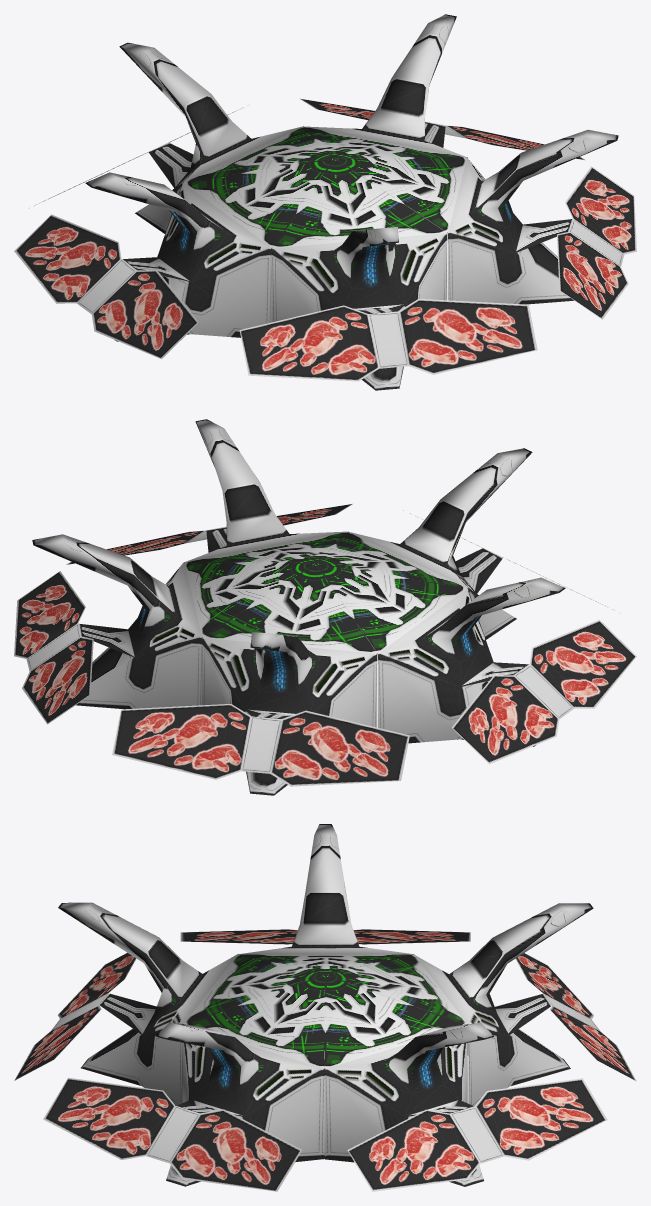
File: ComederoCarn.fbx
The picture shows the model from 3 angles, top to bottom: view 1: azimuth 30°, elevation 25°; view 2: azimuth 150°, elevation 25°; view 3: azimuth 270°, elevation 25°; orthographic projection.
Parts seen in each view (by area): view 1: ComederoCarn; view 2: ComederoCarn; view 3: ComederoCarn.
Boxes of the visible parts, x1,y1,x2,y2 form: ComederoCarn: [14, 14, 636, 390]; ComederoCarn: [14, 419, 636, 795]; ComederoCarn: [14, 824, 636, 1191].
Size of the model in its own units: 5.35 by 1.53 by 5.5.
1 material, 1 textured.
